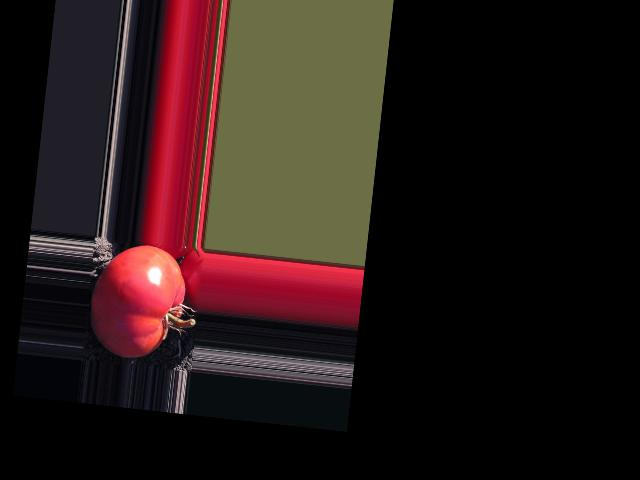tomato: (85, 240, 188, 363)
